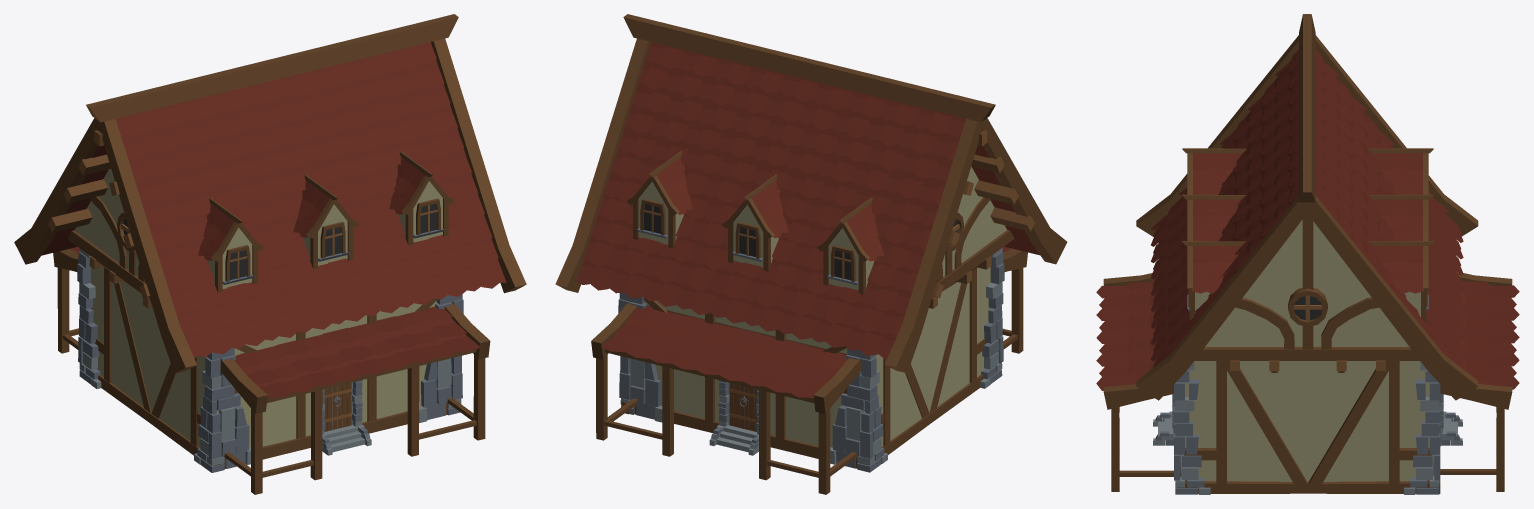
Rendered from Inn_Baked.obj.
3 renders of one model, left to right at view 1: azimuth 30°, elevation 25°; view 2: azimuth 150°, elevation 25°; view 3: azimuth 270°, elevation 25°, orthographic.
Visible parts, largest first — view 1: Inn_Cube.393; view 2: Inn_Cube.393; view 3: Inn_Cube.393.
Part boxes in pixels (x1,y1,x2,y2): Inn_Cube.393: [14, 14, 526, 494]; Inn_Cube.393: [555, 14, 1067, 494]; Inn_Cube.393: [1096, 14, 1519, 494].
Bounding box in the file's own units: 4.03 × 3.49 × 4.02.
1 material, 1 textured.
